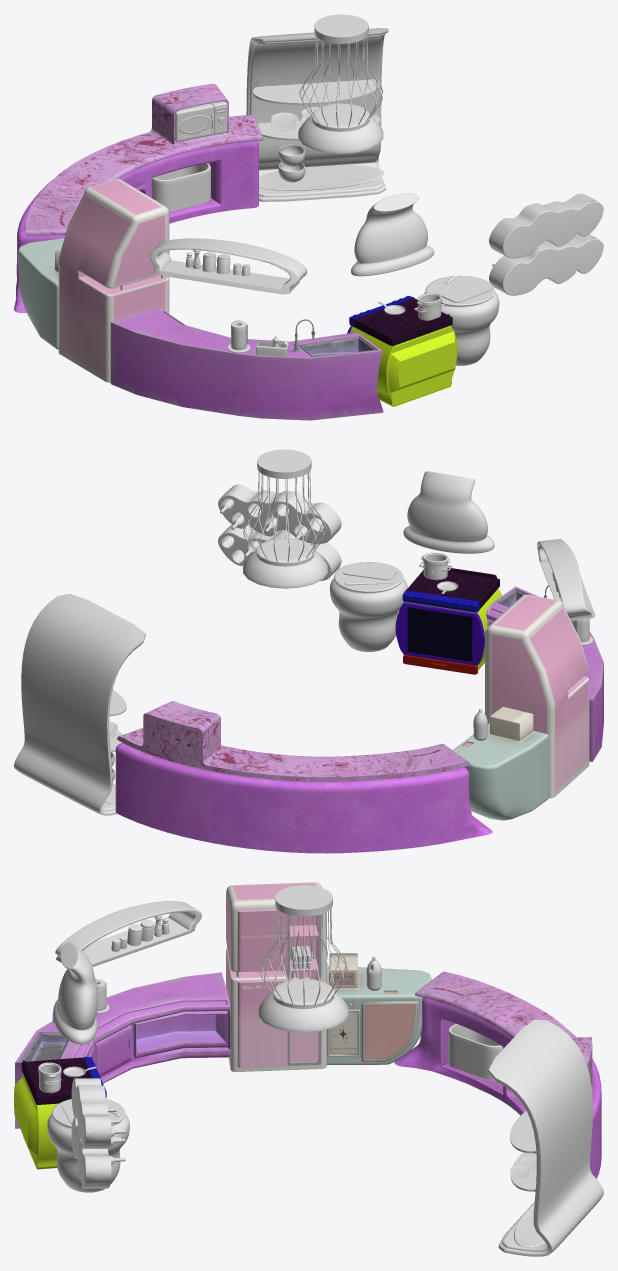
File: Cocina Completa Final.fbx
3 views of the same model, one above another, from view 1: azimuth 30°, elevation 25°; view 2: azimuth 150°, elevation 25°; view 3: azimuth 270°, elevation 25° (orthographic). The views are drawn at different scales.
Visible parts, largest first — view 1: Encimera_2, Line002, Nevera, Encimera_1, Cylinder012, Cylinder008, Cylinder011, Line004, Tube001, Line029, Box024, Cylinder013 (+5 smaller); view 2: Encimera_1, Line002, Nevera, Box024, Cylinder012, Cylinder011, Cylinder013, Line004, Cristal, Tube001, Encimera_2, Box007 (+6 smaller); view 3: Line002, Nevera, Encimera_2, Encimera_1, Box024, Cylinder012, Tube001, Cylinder011, Cylinder013, Line004, Cylinder008, Box049 (+3 smaller).
Boxes of the visible parts, <box> form: Encimera_2: <box>110,308,383,420</box>; Line002: <box>246,28,388,201</box>; Nevera: <box>58,178,169,382</box>; Encimera_1: <box>14,83,263,312</box>; Cylinder012: <box>298,14,383,153</box>; Cylinder008: <box>350,325,457,406</box>; Cylinder011: <box>351,193,434,276</box>; Line004: <box>489,193,603,258</box>; Tube001: <box>149,238,307,294</box>; Line029: <box>489,234,603,295</box>; Box024: <box>18,238,64,349</box>; Cylinder013: <box>424,275,499,365</box>; Encimera_1: <box>115,701,492,853</box>; Line002: <box>14,593,145,815</box>; Nevera: <box>485,594,589,798</box>; Box024: <box>453,706,548,820</box>; Cylinder012: <box>242,449,327,588</box>; Cylinder011: <box>403,471,494,553</box>; Cylinder013: <box>329,562,407,652</box>; Line004: <box>218,484,341,543</box>; Cristal: <box>407,607,472,661</box>; Tube001: <box>537,539,595,620</box>; Encimera_2: <box>486,585,603,761</box>; Box007: <box>406,567,499,609</box>; Line002: <box>488,1019,603,1256</box>; Nevera: <box>226,882,326,1071</box>; Encimera_2: <box>15,972,230,1128</box>; Encimera_1: <box>394,971,601,1178</box>; Box024: <box>327,953,432,1064</box>; Cylinder012: <box>258,885,348,1032</box>; Tube001: <box>55,901,201,966</box>; Cylinder011: <box>53,942,97,1044</box>; Cylinder013: <box>47,1099,129,1192</box>; Line004: <box>71,1078,111,1149</box>; Cylinder008: <box>14,1073,57,1169</box>; Box049: <box>448,1024,502,1079</box>.
Bounding box in the file's own units: 231 × 136 × 256.
